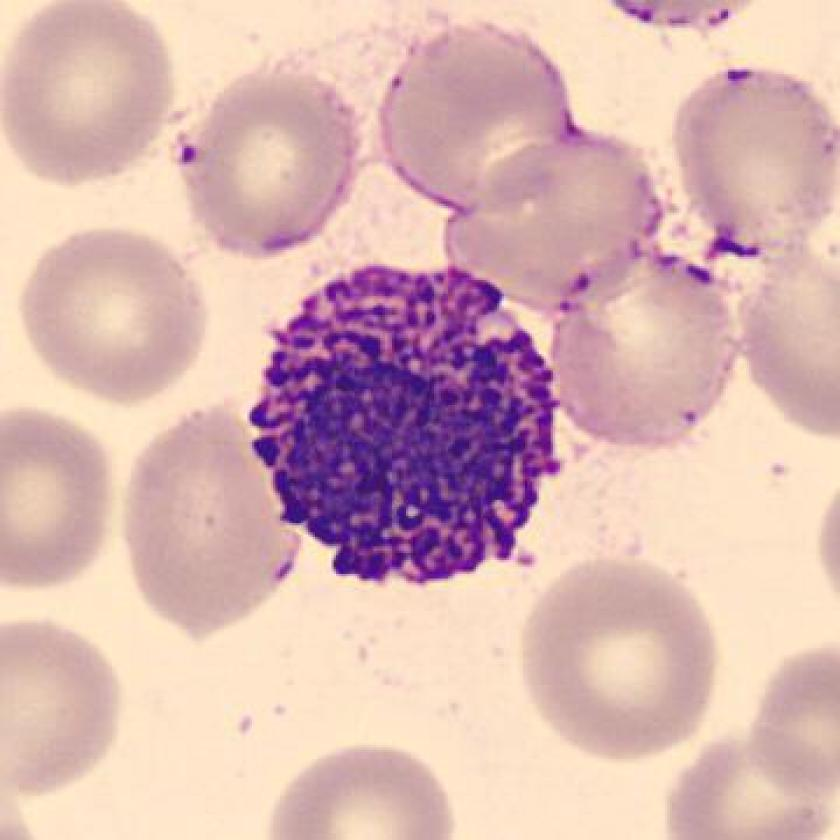basophil: (244, 242, 561, 591)
